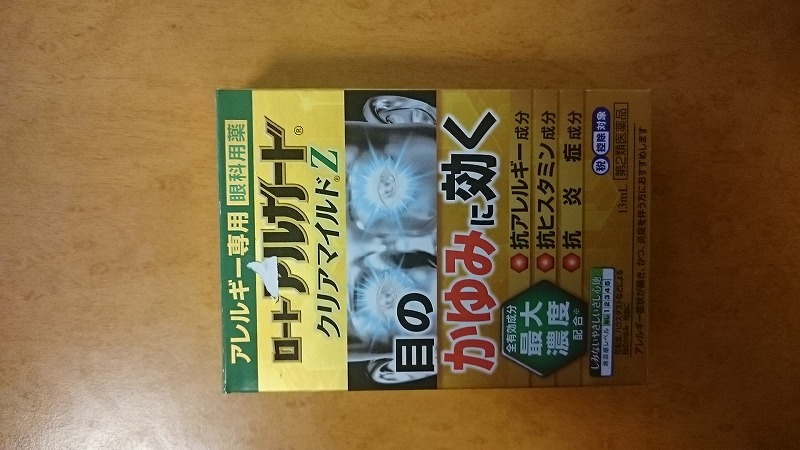C: (208, 77, 661, 398)
